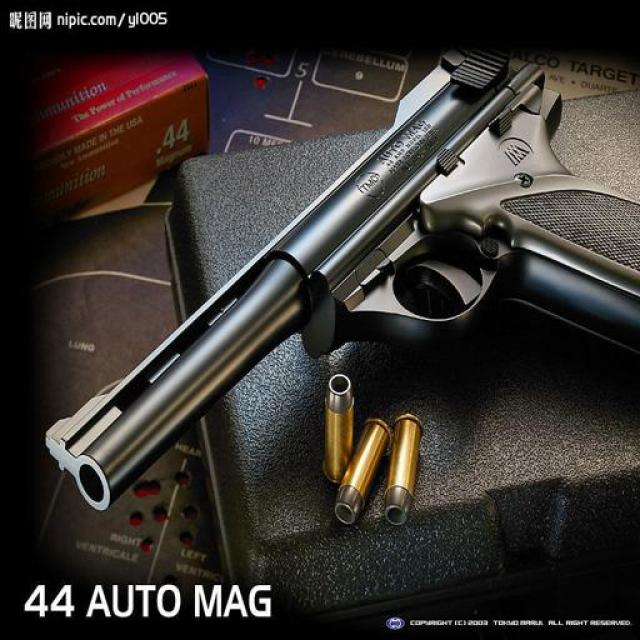pistol: (44, 56, 638, 514)
